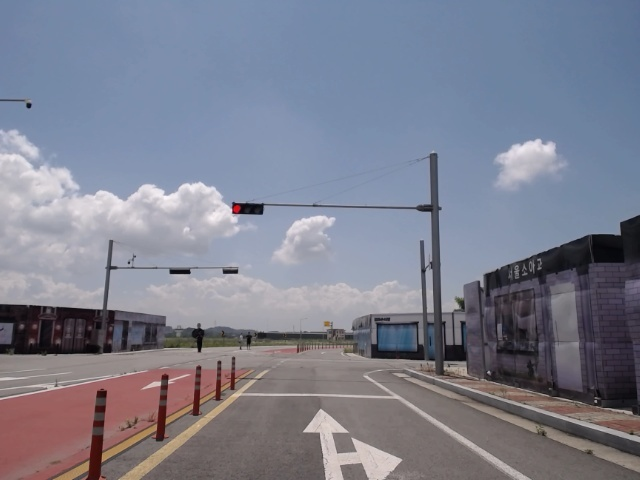red_3: (231, 203, 265, 215)
